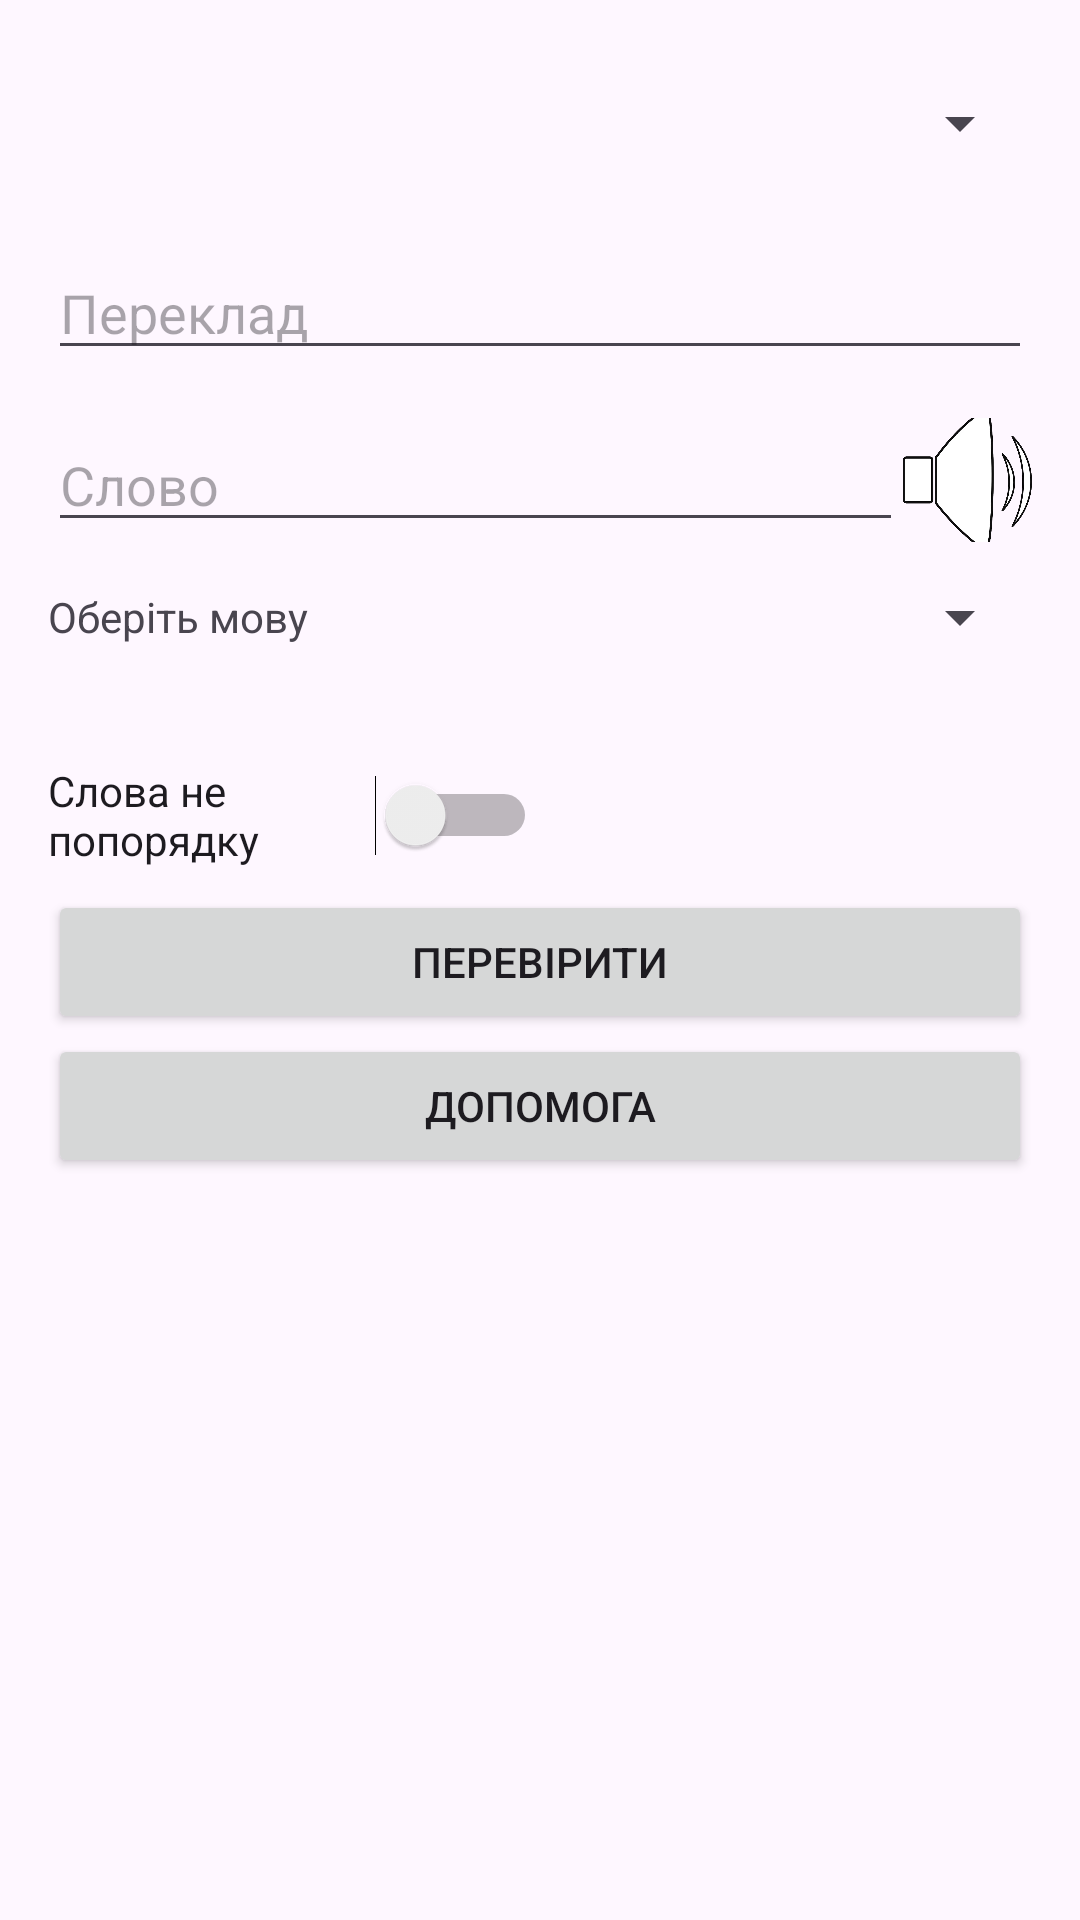

Icon bounding boxes for this 1080 x 1920 phone screenshot, format (x1, y1, x2, y2):
Speak: (903, 418, 1032, 542)
